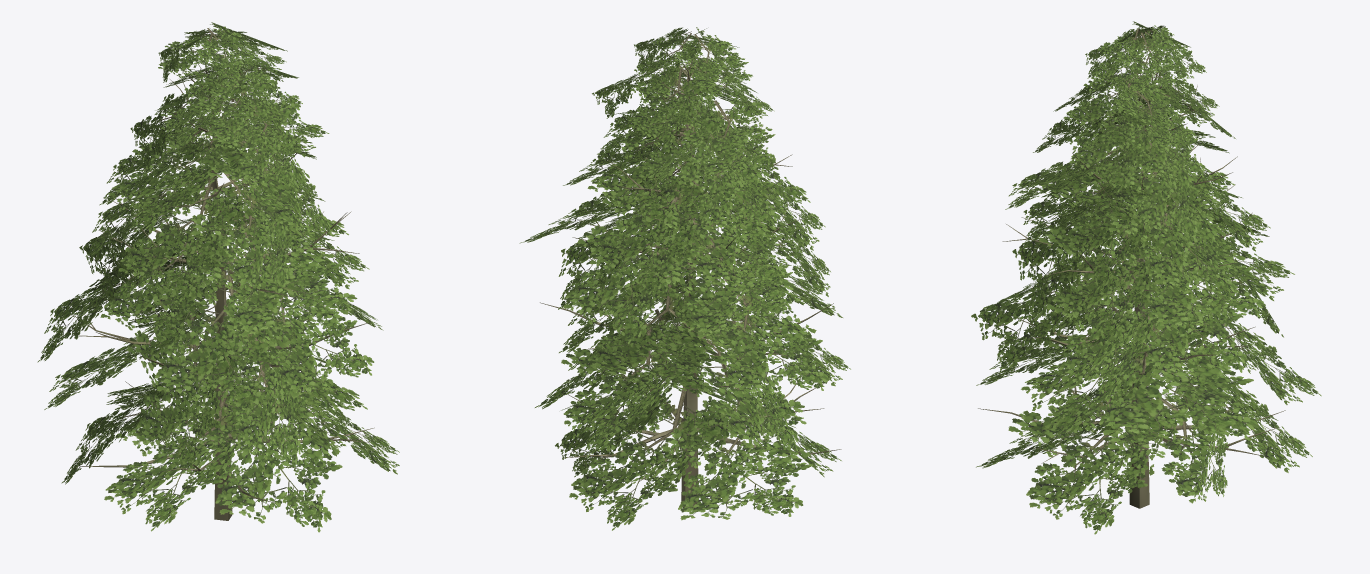
The model's file is BIGV2LOD0.fbx.
3 views of the same model, side by side, from view 1: azimuth 30°, elevation 25°; view 2: azimuth 150°, elevation 25°; view 3: azimuth 270°, elevation 25° (orthographic). The views are drawn at different scales.
Parts seen in each view (by area): view 1: LOD0TREE.001; view 2: LOD0TREE.001; view 3: LOD0TREE.001.
Boxes of the visible parts, x1,y1,x2,y2 form: LOD0TREE.001: (37,22,399,532); LOD0TREE.001: (519,27,850,530); LOD0TREE.001: (971,21,1321,534).
Bounding box in the file's own units: 422 × 509 × 422.
1 material, 1 textured.
